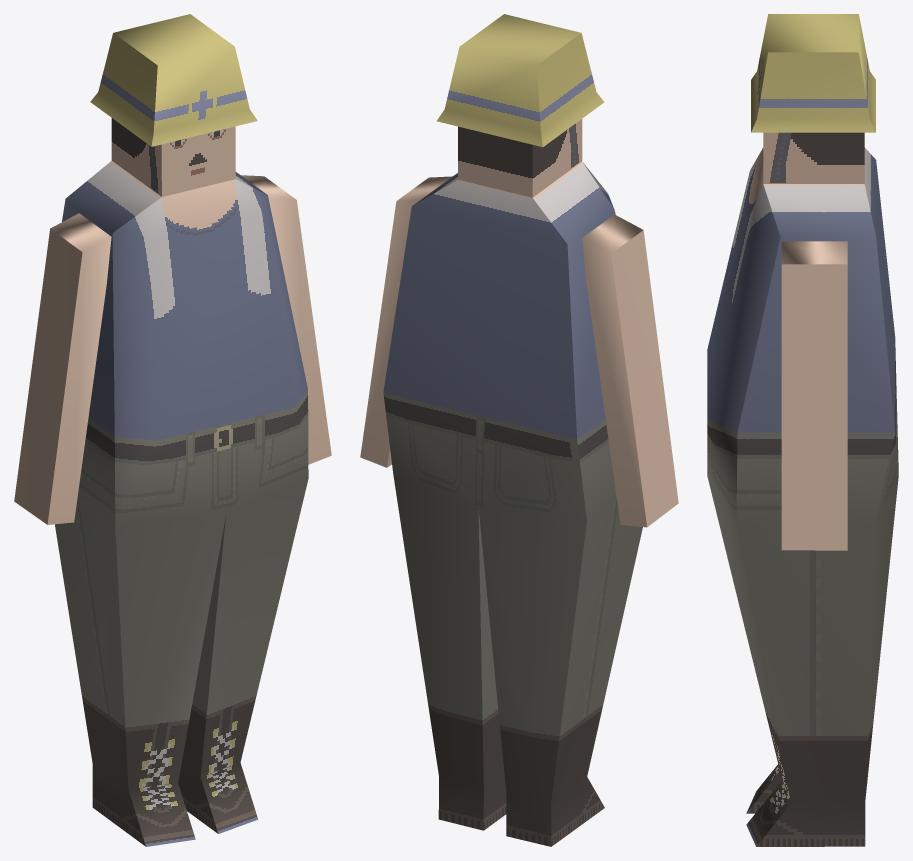
File: 0251_Construction_Guy.glb
3 renders of one model, left to right at view 1: azimuth 30°, elevation 25°; view 2: azimuth 150°, elevation 25°; view 3: azimuth 270°, elevation 25°, orthographic.
Parts seen in each view (by area): view 1: part_0; view 2: part_0; view 3: part_0.
Part boxes in pixels (x1,y1,x2,y2): part_0: [14, 14, 331, 846]; part_0: [360, 14, 678, 846]; part_0: [707, 14, 898, 846].
Size of the model in its own units: 0.6647 by 1.72 by 0.3791.
Materials: 1 (1 with a texture image).
